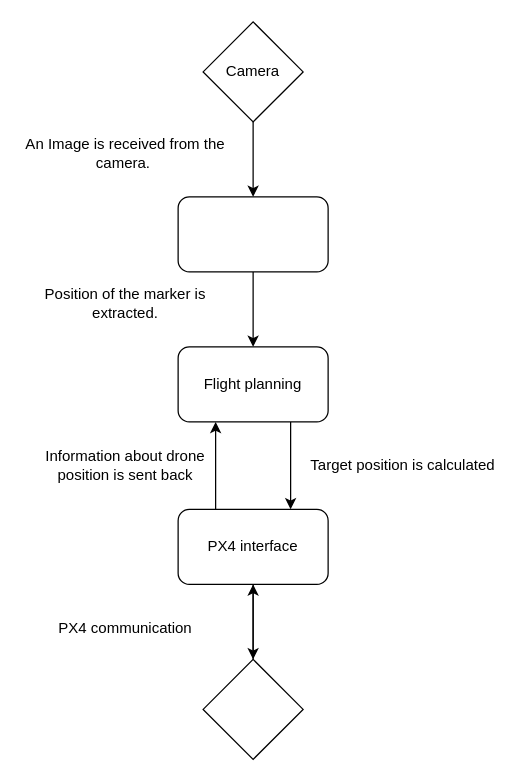
The diagram is 524 pixels wide and 781 high, and some of its shapes have lost their labels. The shapes that lost their labels are listed below. From the top down, each one's centre as x and y in pixels, then its label:
the point at 252,234: Image analysis
the point at 252,708: Drone
